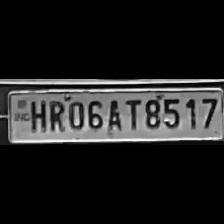0: (65, 97, 85, 131)
1: (182, 95, 196, 129)
5: (160, 94, 180, 130)
6: (86, 96, 104, 132)
7: (196, 94, 218, 130)
8: (142, 96, 160, 130)
A: (104, 96, 122, 132)
H: (28, 97, 46, 132)
R: (46, 97, 64, 133)
T: (123, 96, 141, 132)
